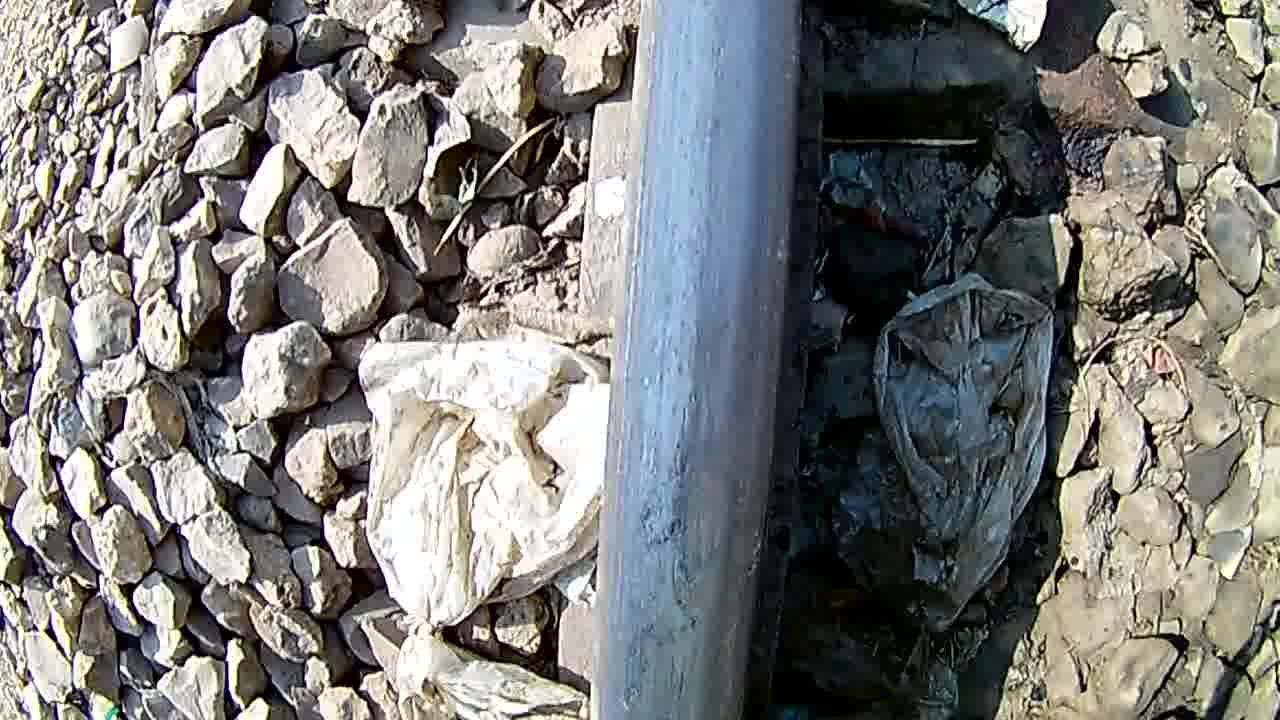bolt_missing: (610, 336, 789, 720)
